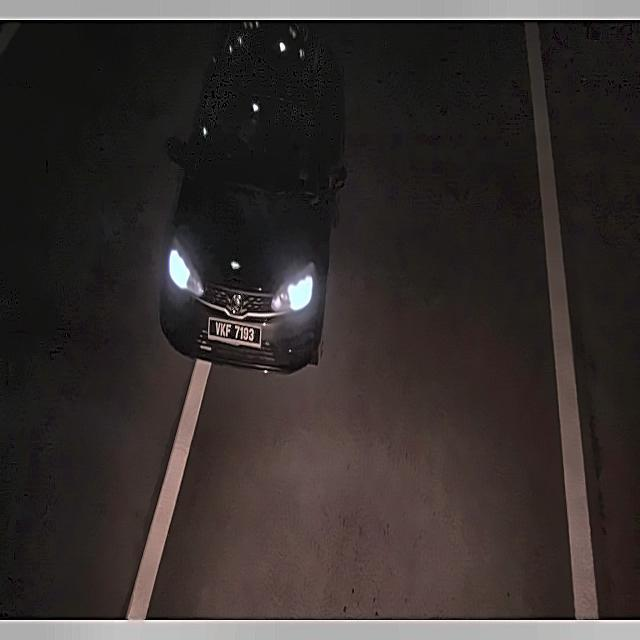car: (203, 309, 268, 354)
